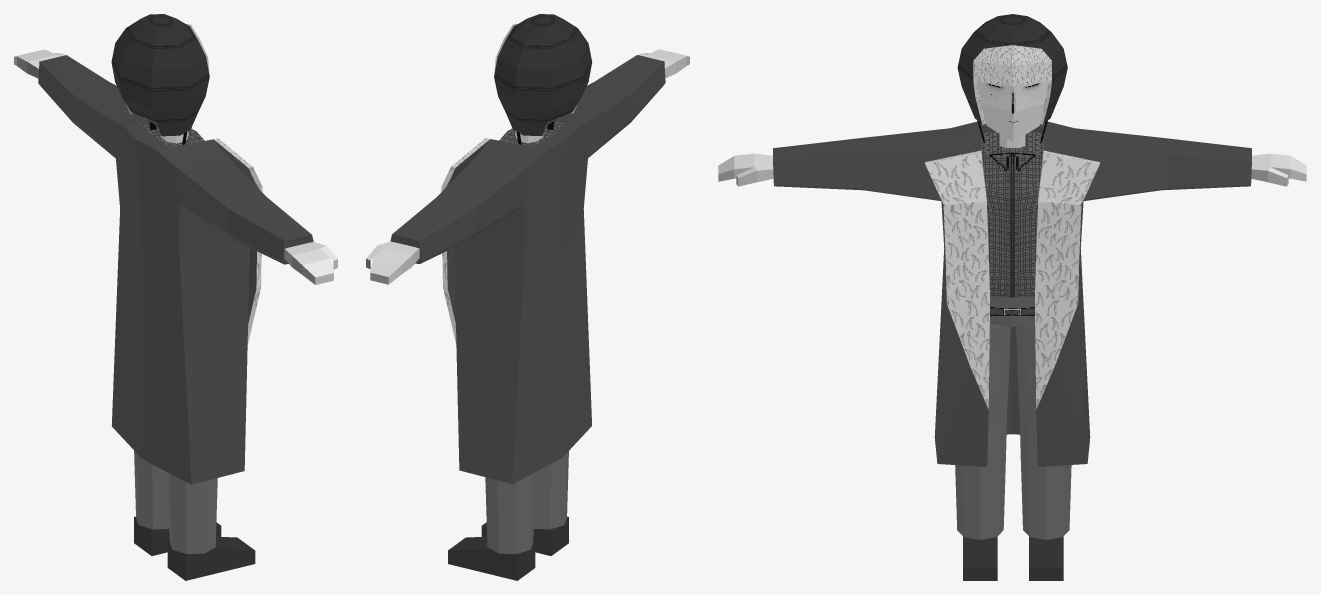
The model's file is modeloassassino.gltf.
3 renders of one model, left to right at view 1: azimuth 30°, elevation 25°; view 2: azimuth 150°, elevation 25°; view 3: azimuth 270°, elevation 25°, orthographic. The views are drawn at different scales.
Parts seen in each view (by area): view 1: Sobretudo, Chapeu, Perna Dir, Pé Esq, Meio Esq, Ponta Esq, Palma Esq, Tronco; view 2: Sobretudo, Chapeu, Perna Dir, Pé Esq, Meio Esq, Ponta Esq, Palma Esq, Tronco; view 3: Sobretudo, Perna Dir, Tronco, Chapeu, Cabeça, Pé Esq, Dedão Esq, Meio Esq.
Part boxes in pixels (x1,y1,x2,y2): Sobretudo: (38, 55, 313, 484); Chapeu: (111, 14, 209, 144); Perna Dir: (134, 450, 217, 554); Pé Esq: (134, 516, 255, 580); Meio Esq: (17, 49, 330, 274); Ponta Esq: (14, 50, 333, 284); Palma Esq: (27, 55, 319, 266); Tronco: (139, 122, 204, 146); Sobretudo: (390, 55, 665, 483); Chapeu: (494, 14, 592, 144); Perna Dir: (485, 451, 568, 554); Pé Esq: (448, 516, 568, 580); Meio Esq: (373, 49, 686, 273); Ponta Esq: (370, 50, 689, 284); Palma Esq: (384, 54, 676, 266); Tronco: (499, 121, 564, 146); Sobretudo: (773, 121, 1251, 466); Perna Dir: (955, 324, 1071, 539); Tronco: (981, 131, 1043, 326); Chapeu: (957, 14, 1067, 142); Cabeça: (977, 81, 1048, 142); Pé Esq: (963, 536, 1063, 580); Dedão Esq: (736, 167, 1288, 186); Meio Esq: (734, 153, 1290, 178).
Bounding box in the file's own units: 1.75 × 8.23 × 8.27.
Materials: 1 (1 with a texture image).
